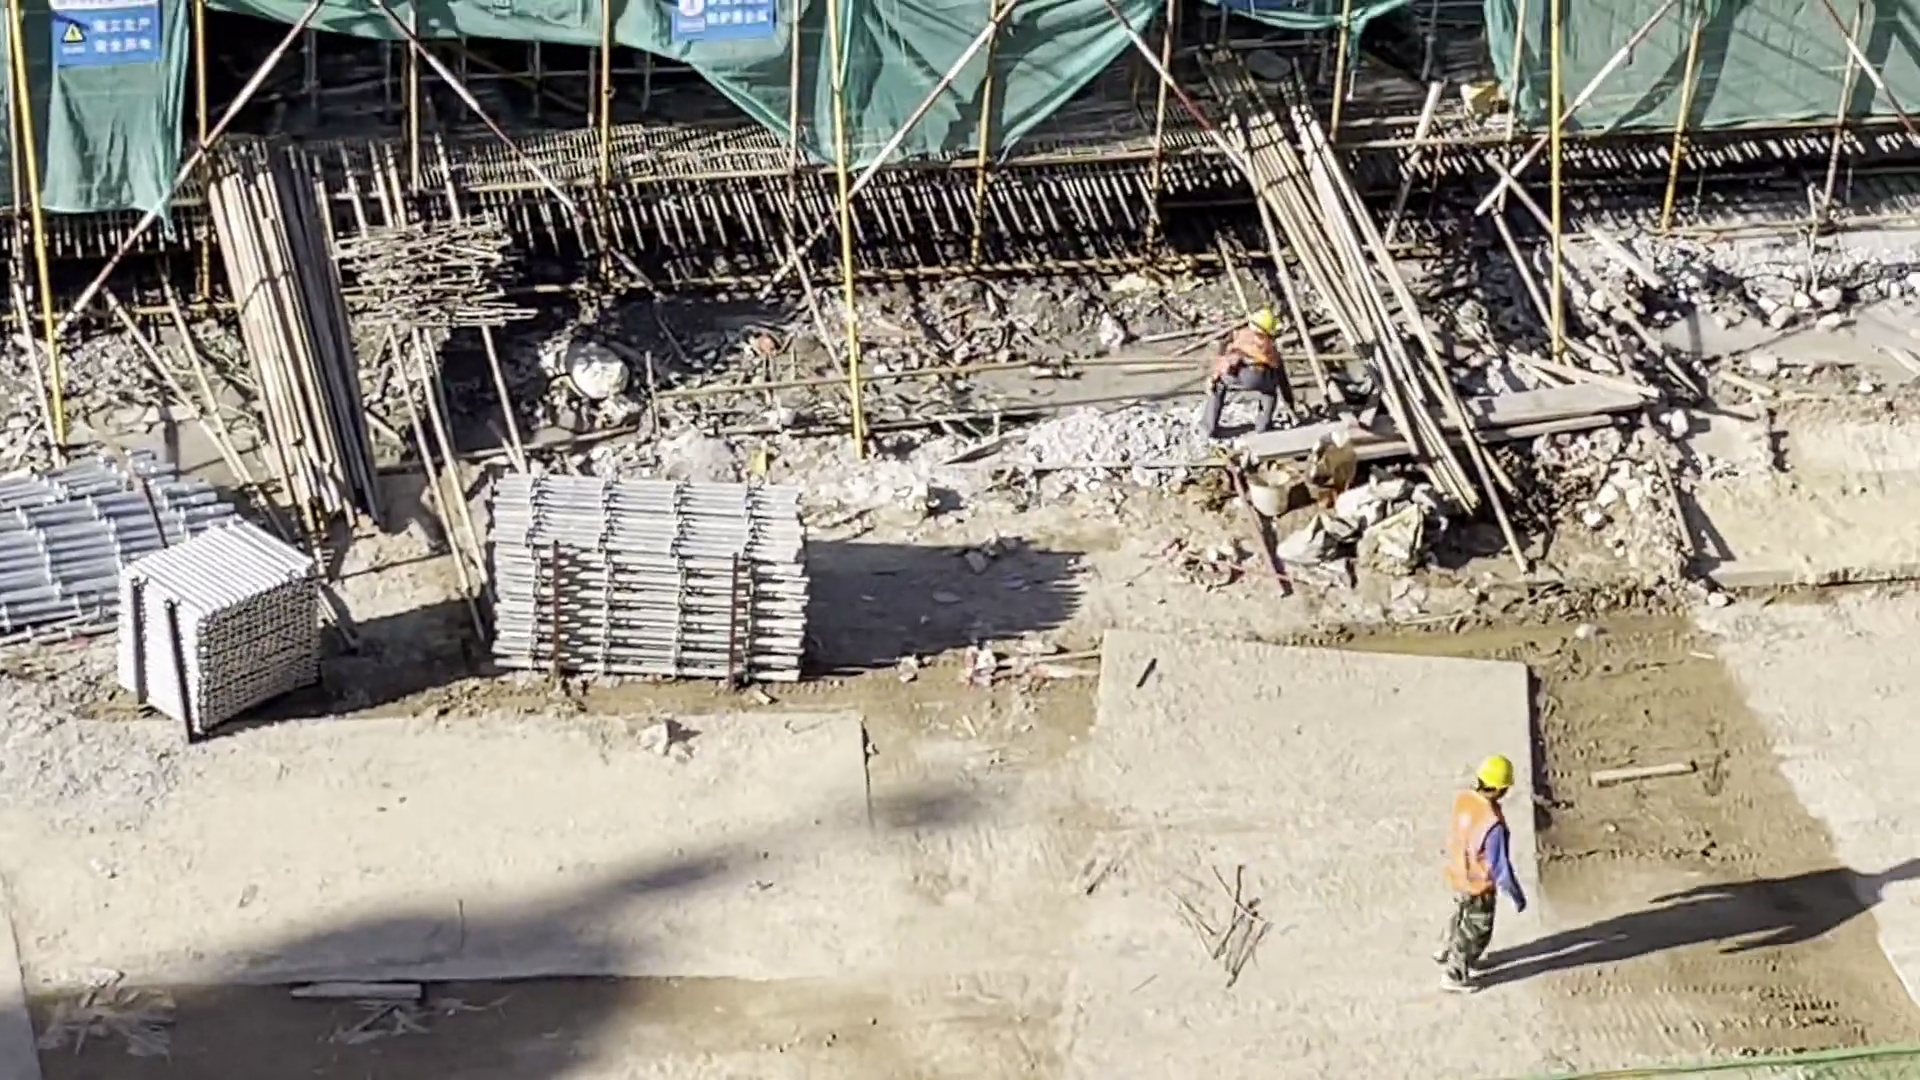helmet: (1467, 745, 1518, 797), (1238, 300, 1278, 338)
person: (1426, 735, 1559, 1011), (1192, 293, 1300, 453)
scaffold: (458, 450, 826, 703), (109, 508, 331, 749), (1, 460, 230, 650)
slogan: (23, 1, 181, 64), (656, 1, 794, 53)
vest: (1445, 791, 1503, 906)
